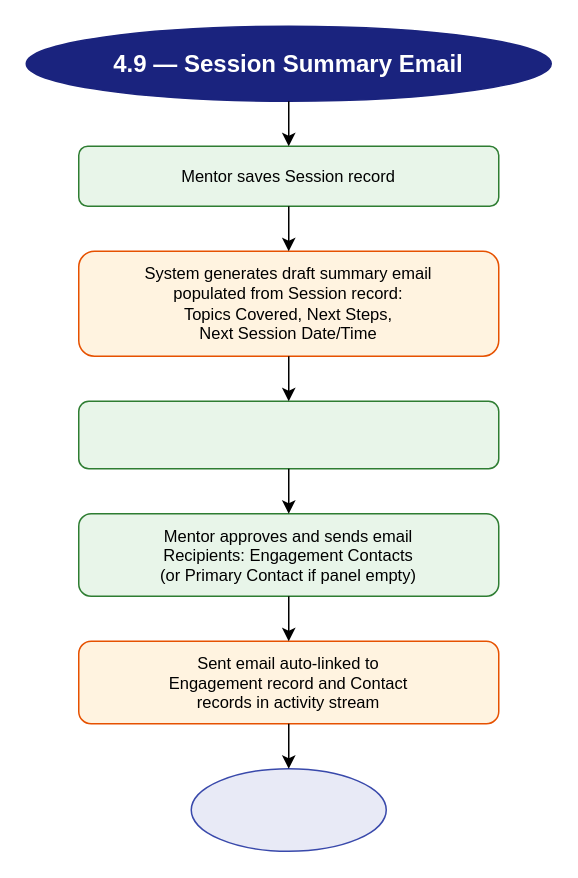
Image size: 578x878. Some labels were removed from this diagram. Each missing label, with the centre of its shape:
"Draft email presented to mentor for review and editing within CRM" belongs at [288,434].
"Summary Email Sent" belongs at [288,809].
